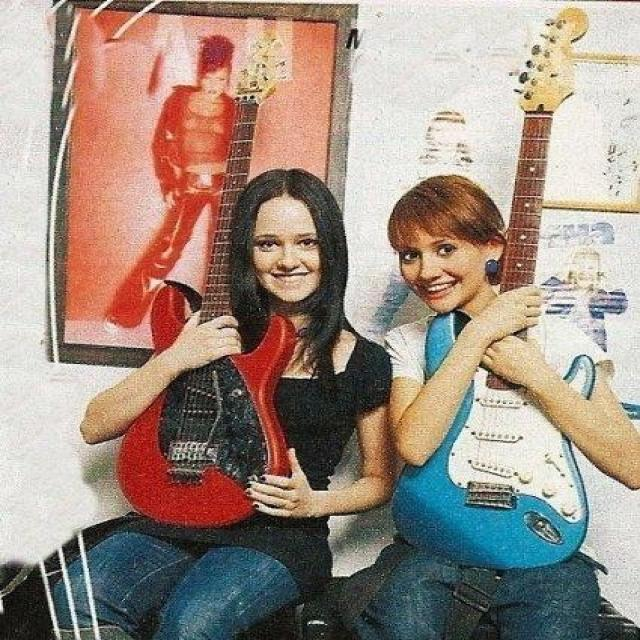guitar: (386, 4, 598, 571), (114, 24, 295, 530)
